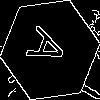A: (25, 25, 77, 74)
